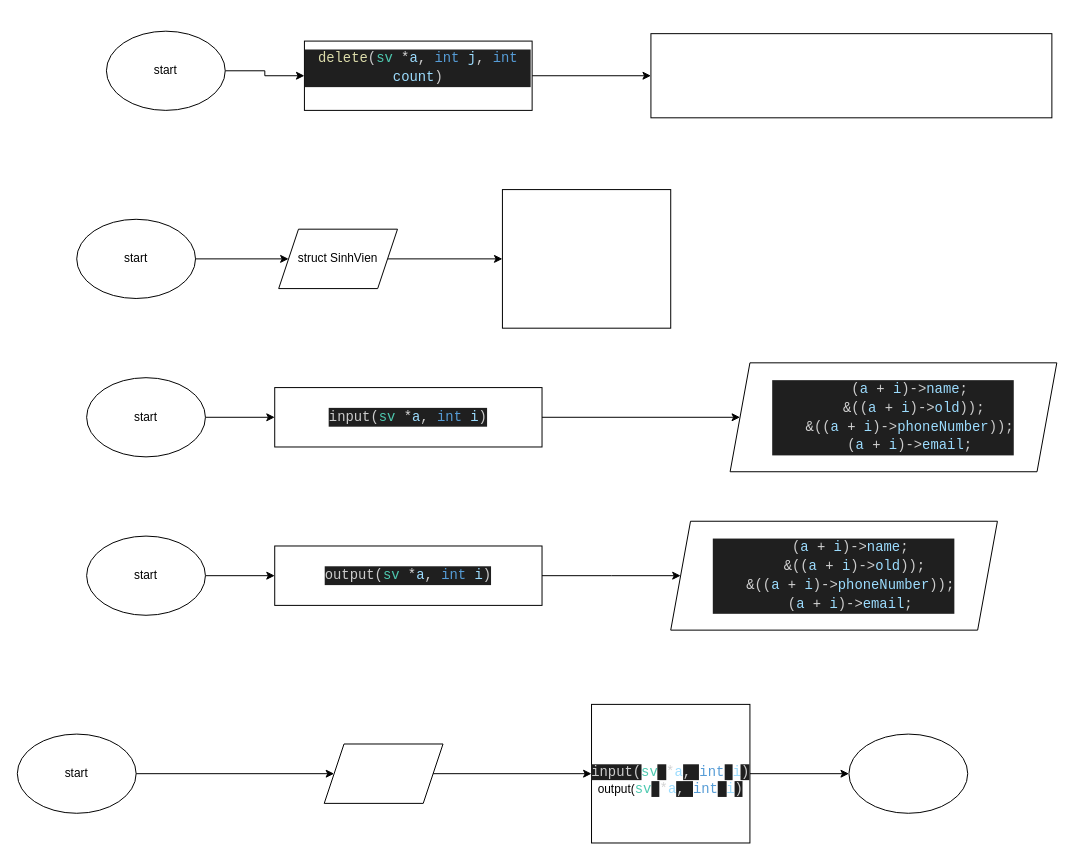
Image size: 1074x860. Some labels were removed from this diagram. Each missing label, with the centre of its shape:
char name [ 20 ]; int old ; int phoneNumber ; char email [ 50 ];: the point at 586,258
end: the point at 908,773
for ( int i = j ; i < count ; i ++ ) { * ( a + i ) = * ( a + i + 1 ); }: the point at 851,75
struct SinhVien sv: the point at 383,773
